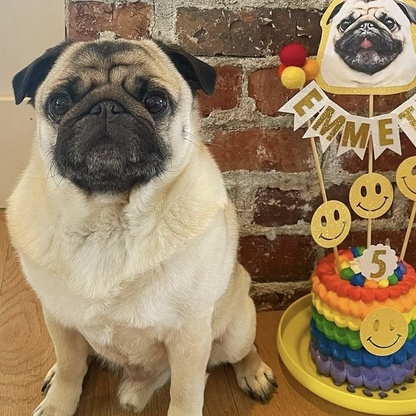Pug: (2, 29, 289, 416)
